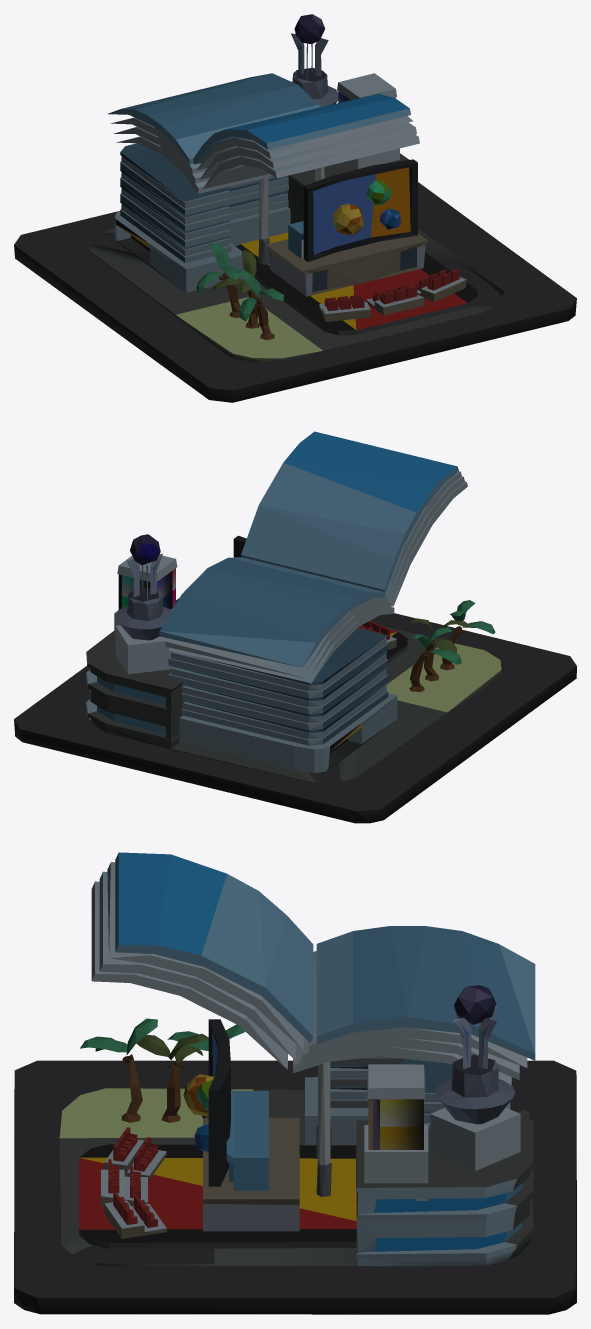
3 renders of one model, top to bottom at view 1: azimuth 30°, elevation 25°; view 2: azimuth 150°, elevation 25°; view 3: azimuth 270°, elevation 25°, orthographic. The views are drawn at different scales.
Parts seen in each view (by area): view 1: Plane.014; view 2: Plane.014; view 3: Plane.014.
Boxes of the visible parts, x1,y1,x2,y2 form: Plane.014: (14, 14, 576, 402); Plane.014: (14, 431, 576, 823); Plane.014: (14, 852, 576, 1314).
Size of the model in its own units: 3 by 1.65 by 3.
Materials: 1 (1 with a texture image).
